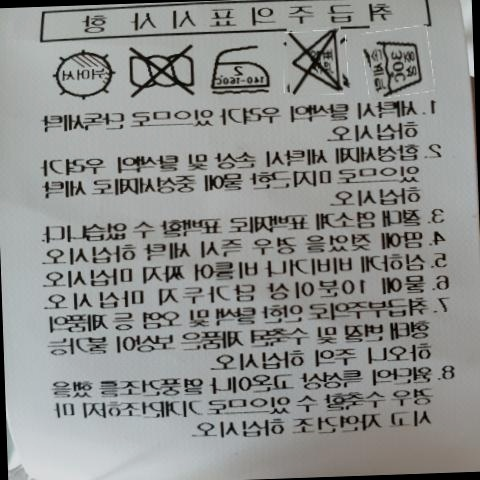DN_wring: (118, 43, 199, 100)
dry_flat_in_shade: (46, 48, 114, 100)
hand_wash: (355, 31, 425, 98)
iron_medium: (206, 46, 270, 95)
non_chlorine_bleach: (284, 31, 349, 99)
